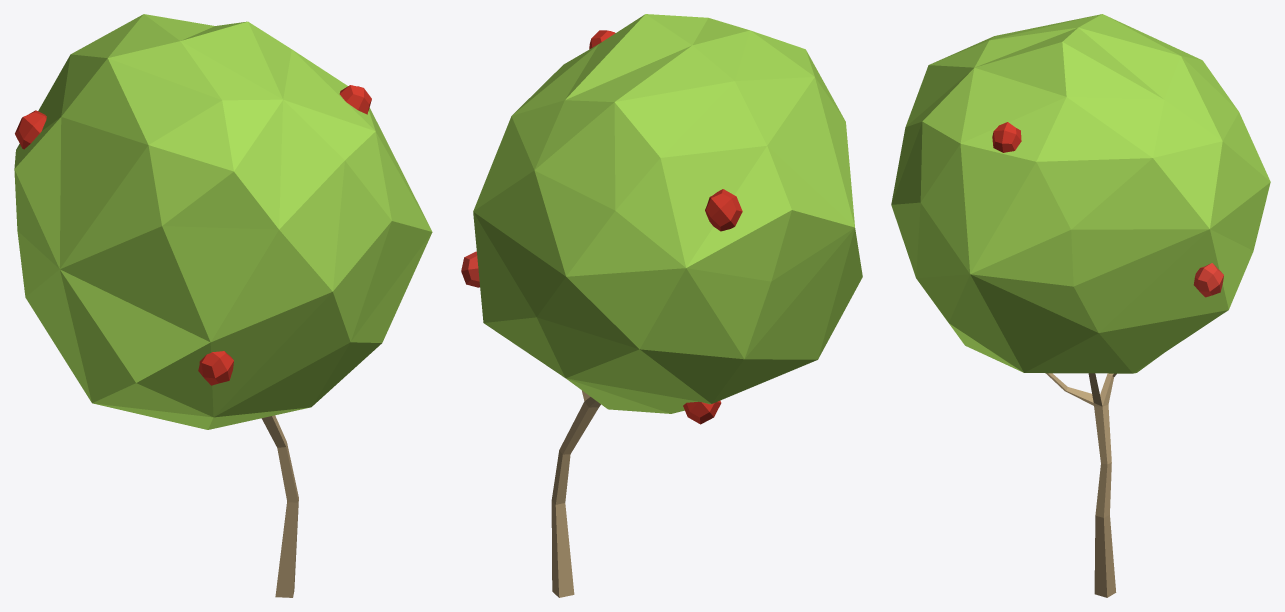
The model's file is Apple_Tree_Apples_s_BT_04.fbx.
3 views of the same model, side by side, from view 1: azimuth 30°, elevation 25°; view 2: azimuth 150°, elevation 25°; view 3: azimuth 270°, elevation 25° (orthographic). The views are drawn at different scales.
Visible parts, largest first — view 1: Apple_Tree_Apples_s_BT_04; view 2: Apple_Tree_Apples_s_BT_04; view 3: Apple_Tree_Apples_s_BT_04.
Boxes of the visible parts, x1,y1,x2,y2 form: Apple_Tree_Apples_s_BT_04: (14, 14, 432, 597); Apple_Tree_Apples_s_BT_04: (461, 14, 862, 597); Apple_Tree_Apples_s_BT_04: (891, 14, 1270, 597).
Size of the model in its own units: 184 by 317 by 207.
